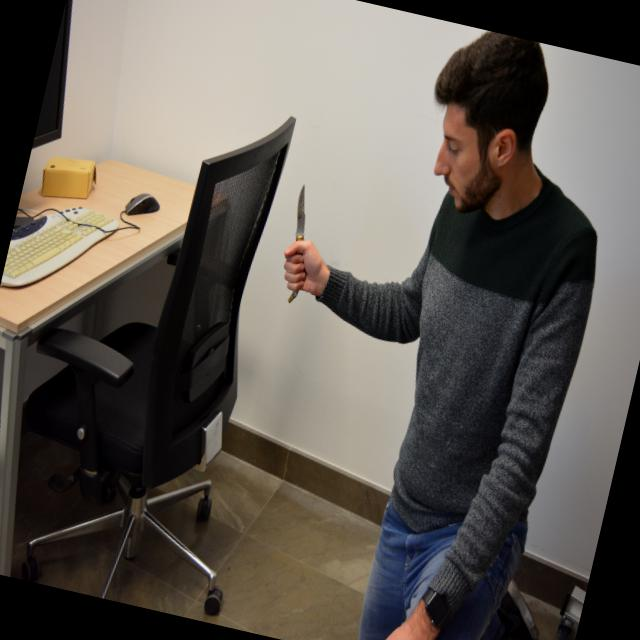knife: (270, 178, 330, 306)
